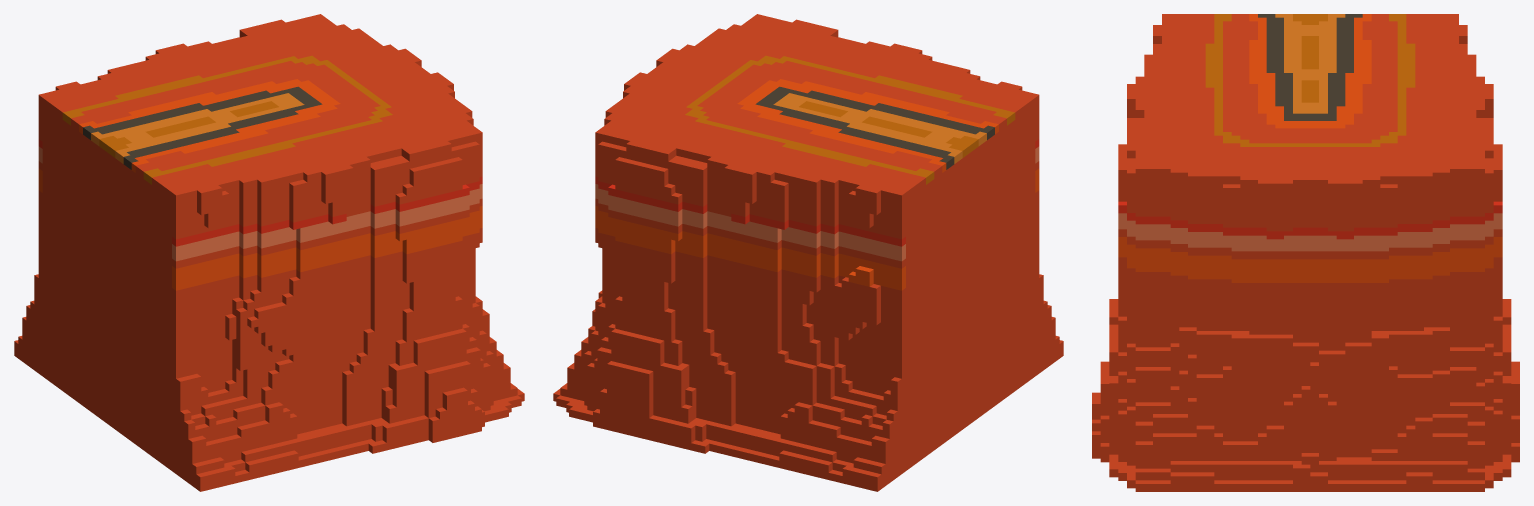
The model's file is western5.obj.
3 renders of one model, left to right at view 1: azimuth 30°, elevation 25°; view 2: azimuth 150°, elevation 25°; view 3: azimuth 270°, elevation 25°, orthographic. The views are drawn at different scales.
Bounding box in the file's own units: 4.8 × 3.8 × 4.9.
Materials: 1 (1 with a texture image).
